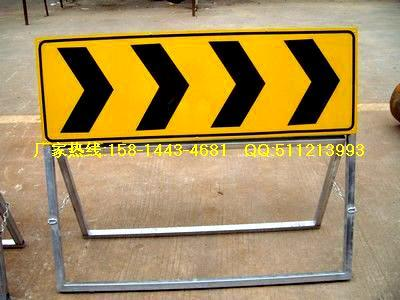sign: (39, 34, 359, 143)
